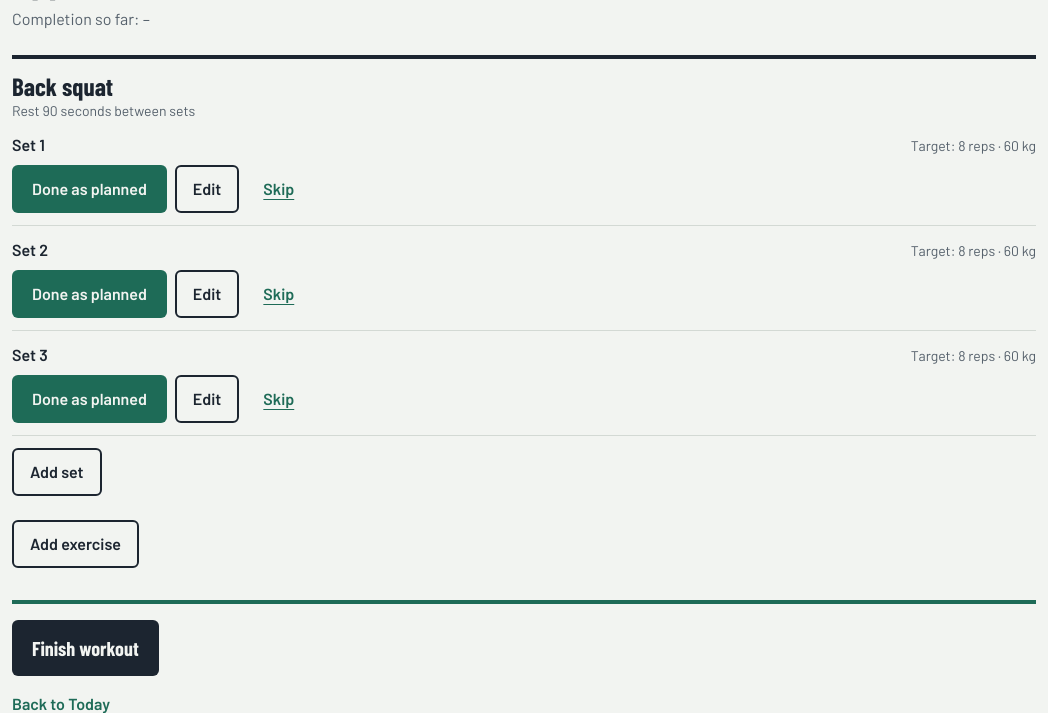
Scenario: editing sets › removes an added exercise on Cancel when no set was logged, without an API write
Click the button "Add exercise": coordinates (75, 544) [12,520,139,568]
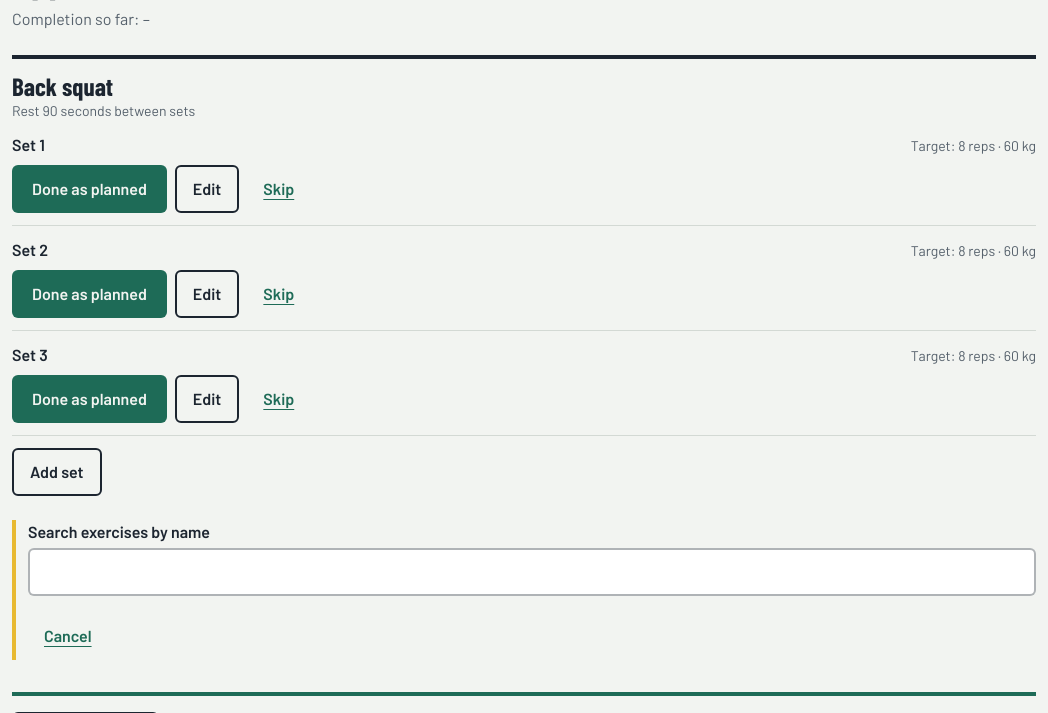
In the search field labelled "Search exercises by name": coordinates (532, 572) [28,548,1036,596], type "pla"
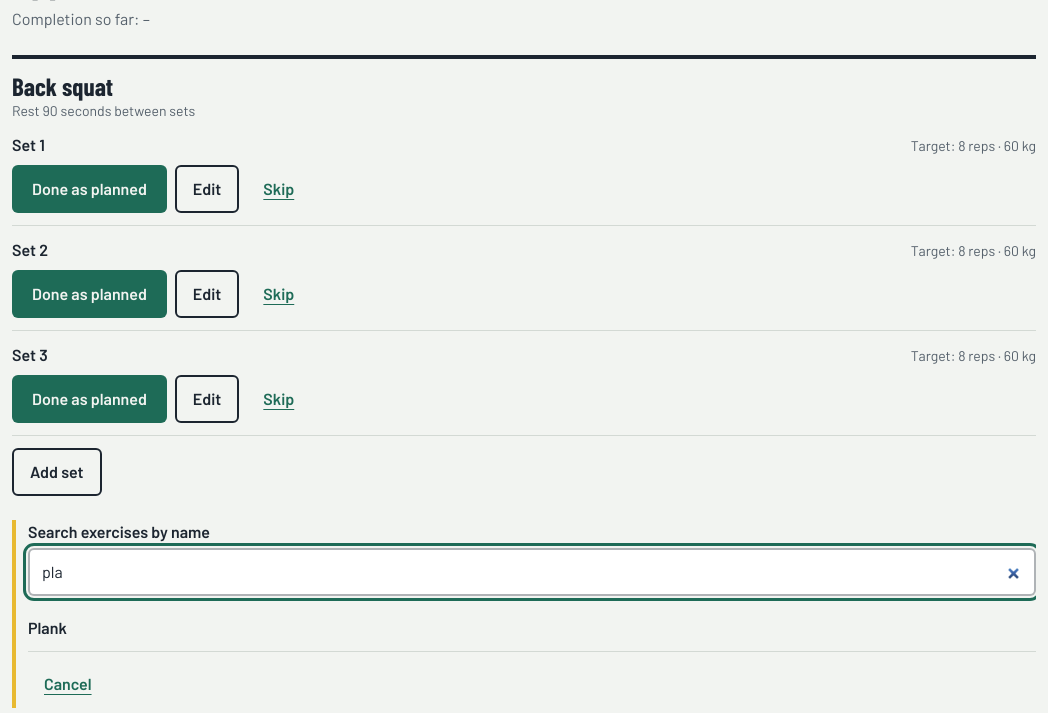
Click the button "Plank": coordinates (47, 627) [28,604,1036,652]
(page scrolled)
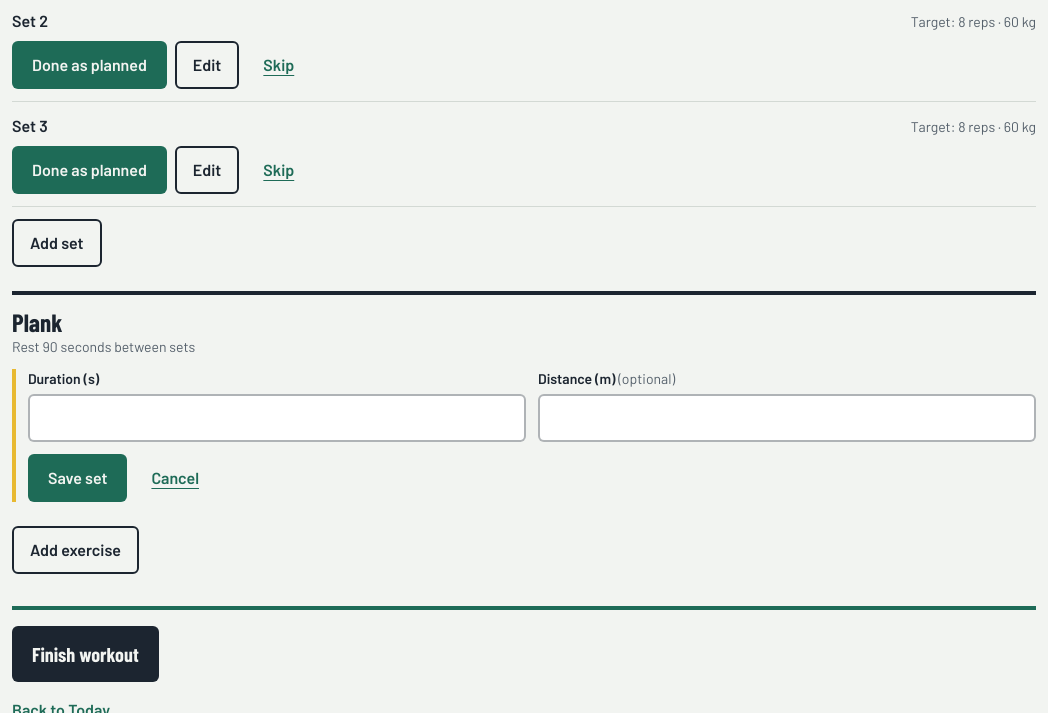
Expected: the field labelled "Duration (s)" is shown, [28,394,526,442]
Click the button "Cancel": coordinates (175, 478) [135,454,215,502]
(page scrolled)
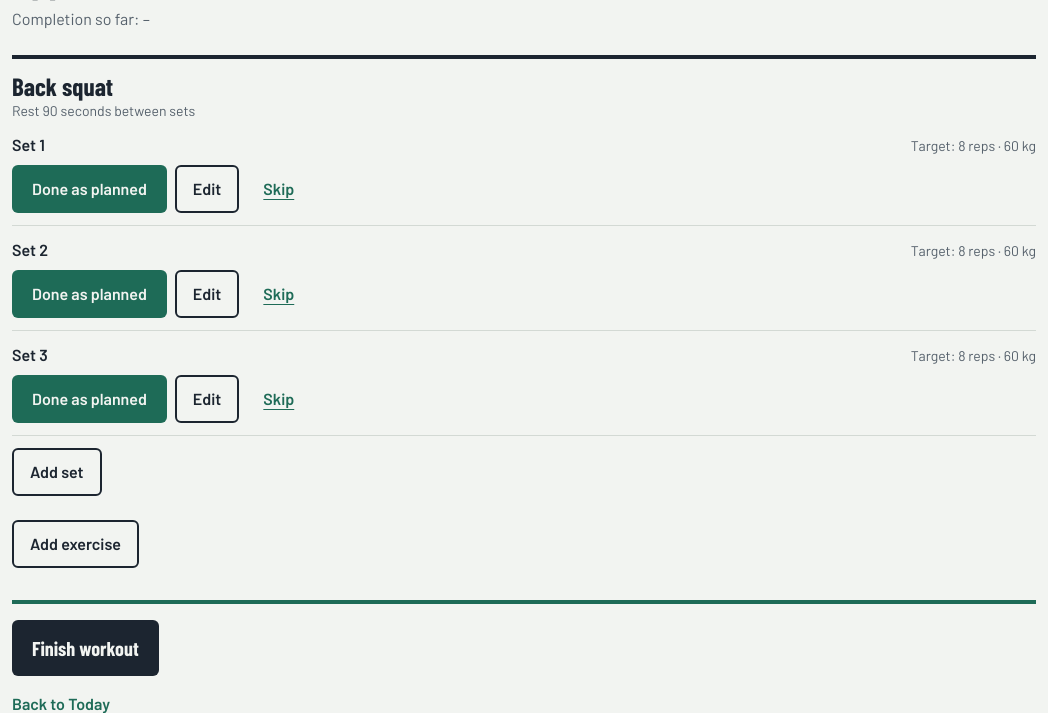
Expected: the heading "Plank" is gone
Expected: the label labelled "Duration (s)" is gone
